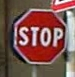stop: (9, 7, 67, 65)
